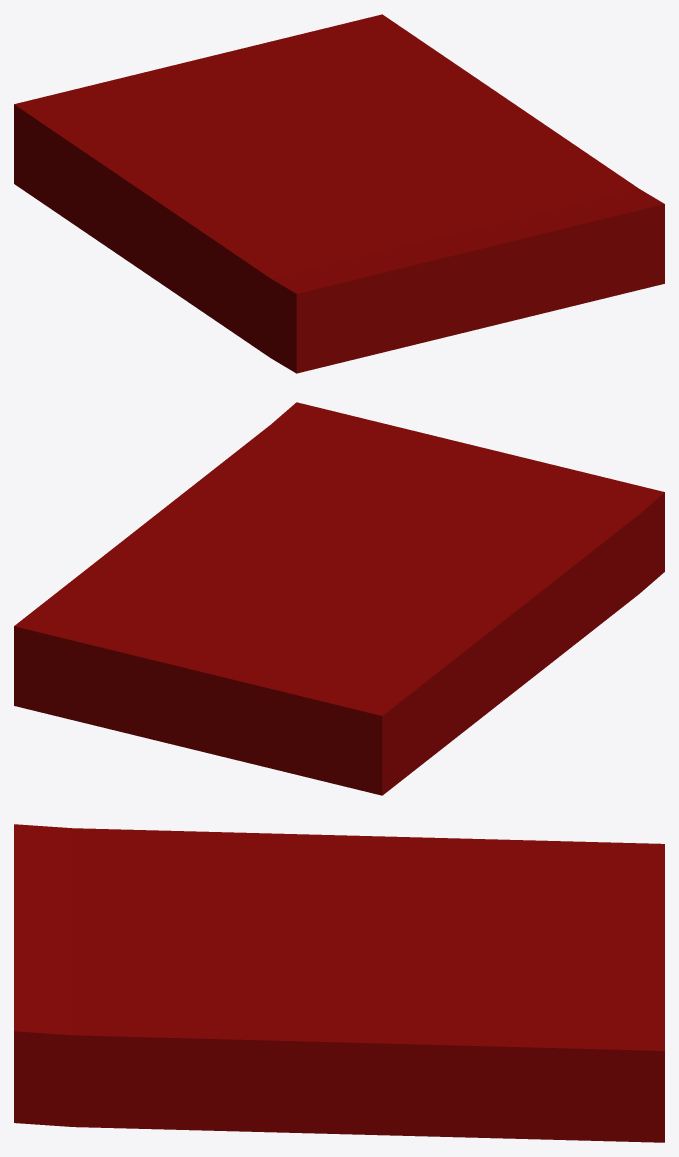
Rendered from Rojo2.fbx.
The picture shows the model from 3 angles, top to bottom: view 1: azimuth 30°, elevation 25°; view 2: azimuth 150°, elevation 25°; view 3: azimuth 270°, elevation 25°; orthographic projection. The views are drawn at different scales.
Parts seen in each view (by area): view 1: 8_Rojo; view 2: 8_Rojo; view 3: 8_Rojo.
Boxes of the visible parts, x1,y1,x2,y2 form: 8_Rojo: (14, 14, 664, 373); 8_Rojo: (14, 402, 664, 795); 8_Rojo: (14, 824, 664, 1142).
Size of the model in its own units: 2.1 by 0.5277 by 2.79.
